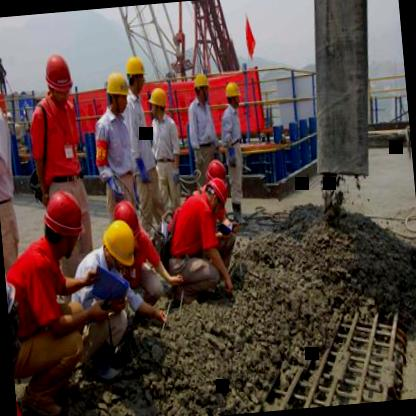helmet: (37, 184, 88, 260), (98, 212, 140, 279), (40, 50, 76, 108), (103, 68, 131, 114), (122, 52, 149, 96), (112, 197, 140, 237), (202, 154, 231, 190), (205, 172, 231, 209), (220, 76, 244, 113), (190, 68, 212, 107), (146, 84, 168, 122)
